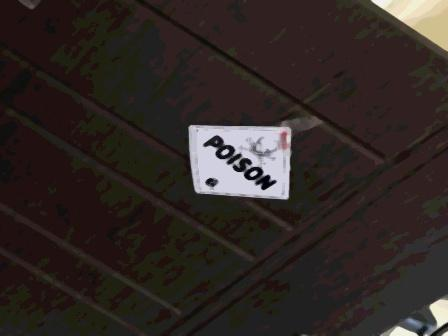poison: (185, 124, 290, 200)
